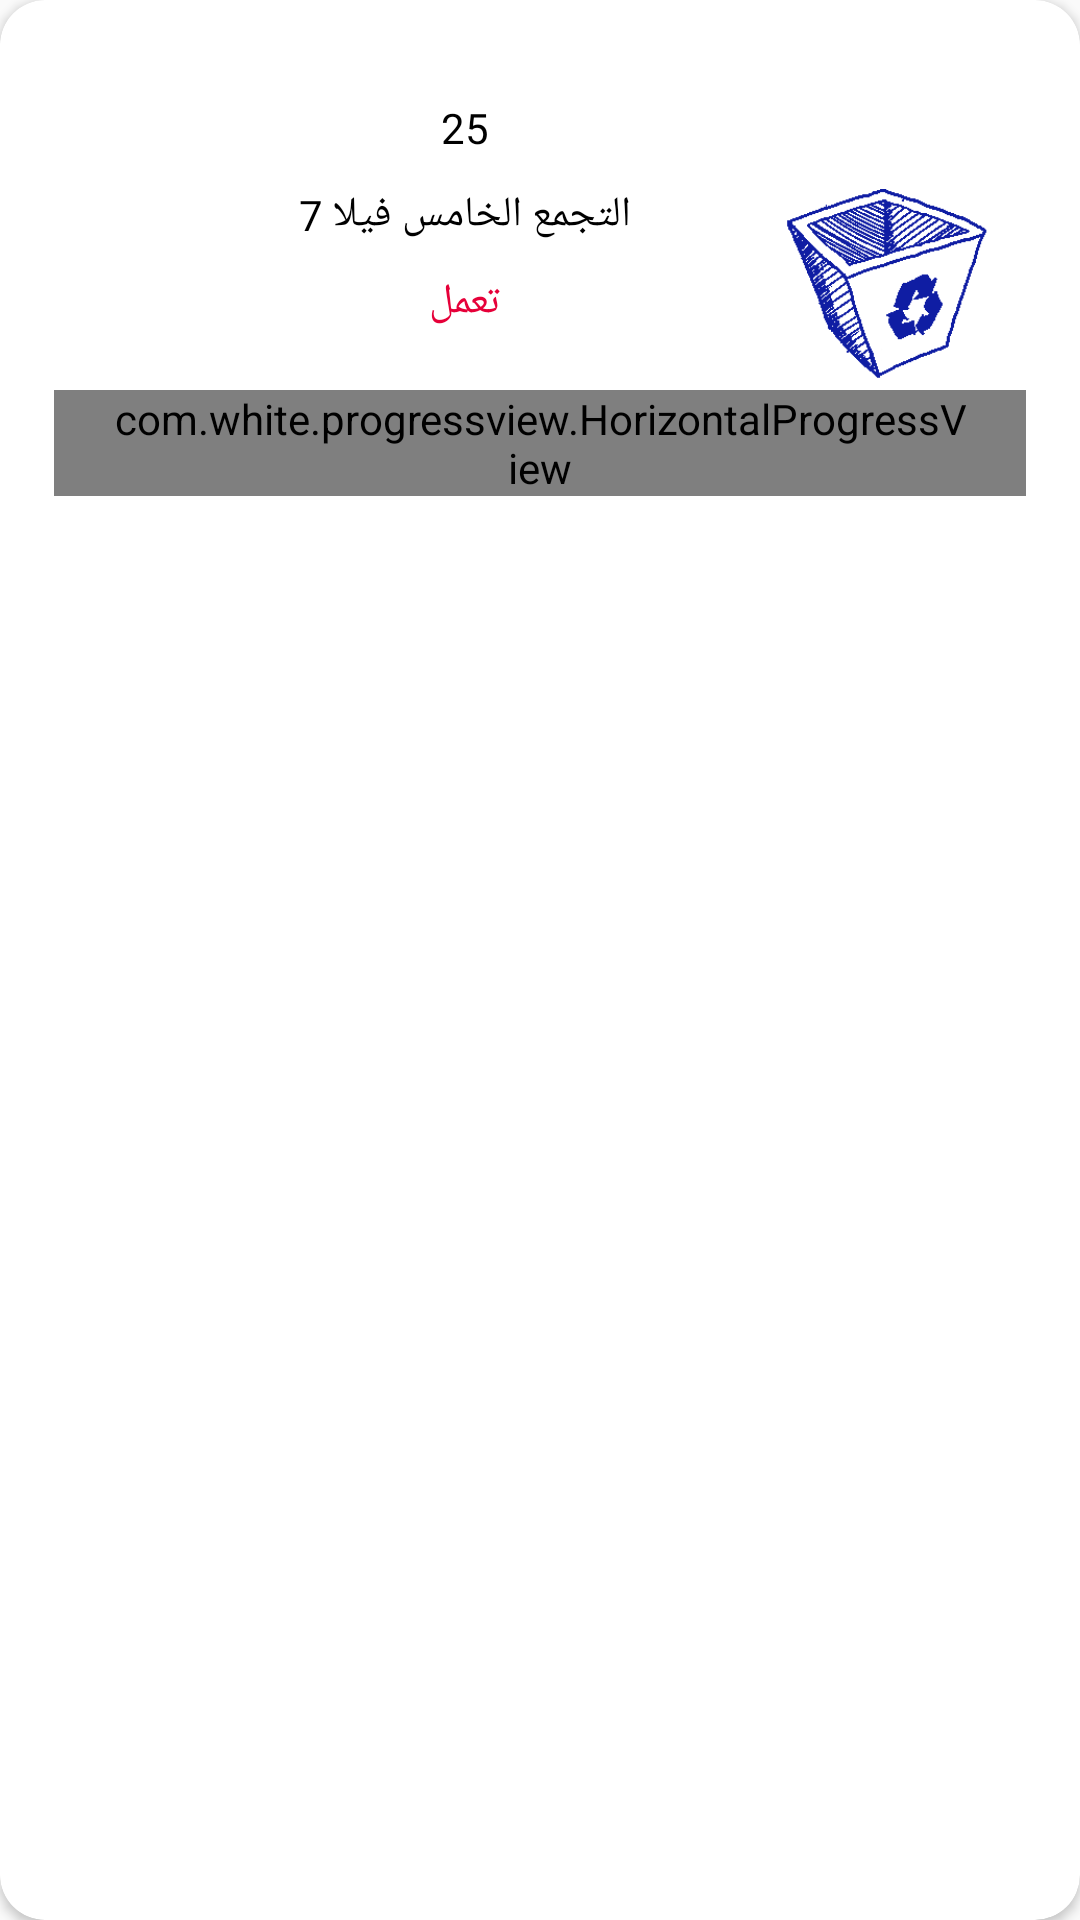

Screen size 1080x1920. Icon name, then its box in pixels as (x1, y1, x2, y2):
trash: (787, 189, 987, 378)
